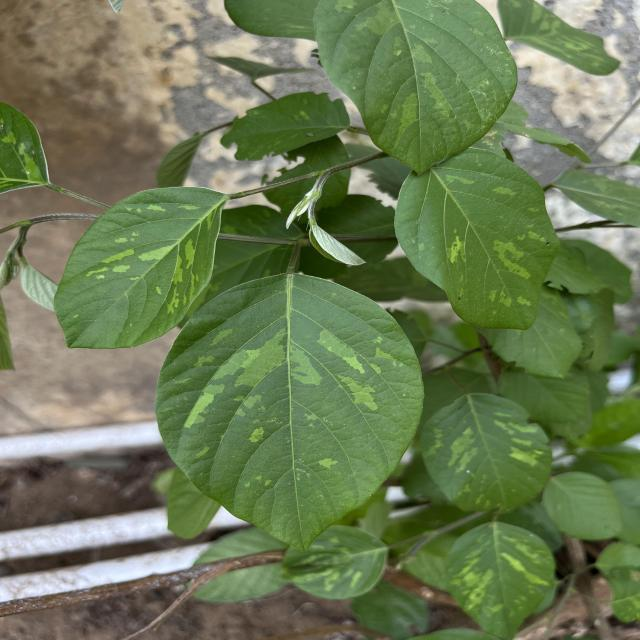Desmodium gangeticum: (152, 271, 428, 555), (309, 0, 521, 180), (393, 144, 564, 333), (51, 183, 232, 352)
